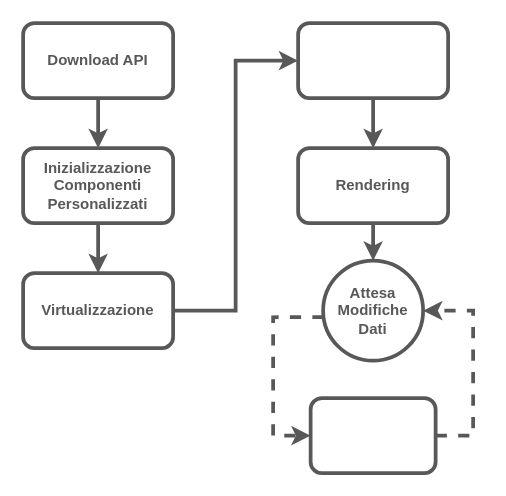
Image size: 506x496. Some labels were removed from this diagram. The shapes that lost their labels are listed below. From the top down, each one's centre as x and y in pixels, then its label:
At [372,60]: "Elaborazione Dati".
At [372,435]: "Aggiornamento Interfaccia".
